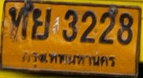txt18: (7, 6, 28, 41)
txt29: (30, 7, 53, 41)
